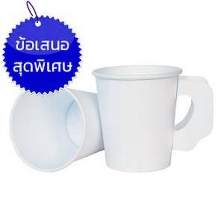paper_cup: (88, 58, 218, 175), (2, 80, 116, 177)
